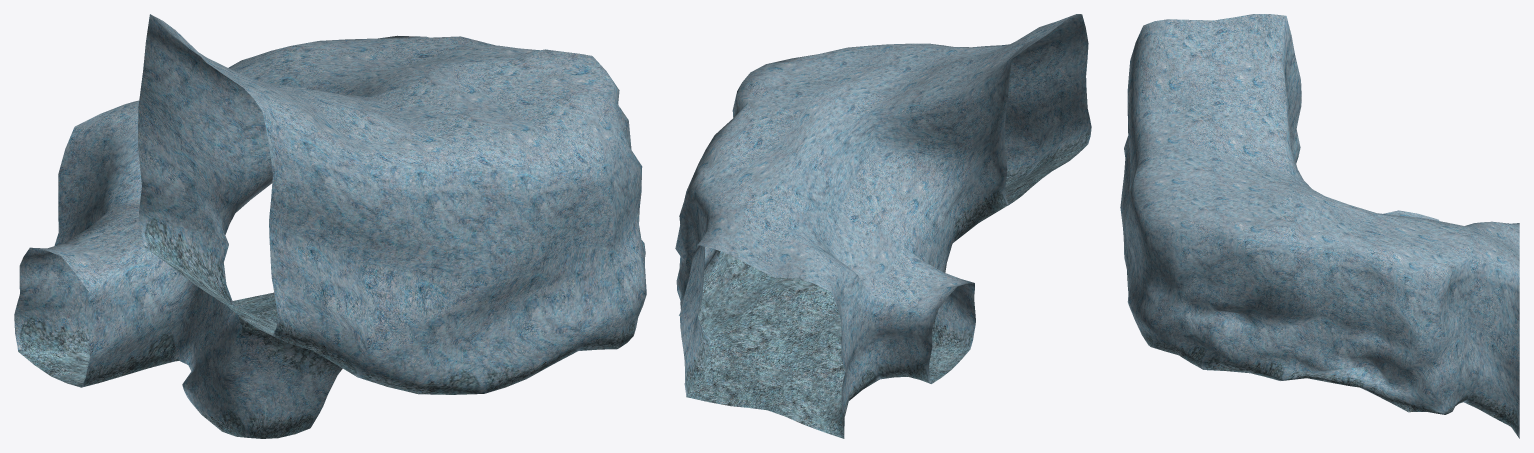
The model's file is thm_all_cave_s02_ice_r3_mesh_r3.fbx.
The picture shows the model from 3 angles, left to right: view 1: azimuth 30°, elevation 25°; view 2: azimuth 150°, elevation 25°; view 3: azimuth 270°, elevation 25°; orthographic projection. The views are drawn at different scales.
Parts seen in each view (by area): view 1: mesh_node; view 2: mesh_node; view 3: mesh_node.
Part boxes in pixels (x1,y1,x2,y2): mesh_node: [14, 14, 646, 438]; mesh_node: [675, 14, 1091, 438]; mesh_node: [1120, 14, 1519, 438].
Size of the model in its own units: 41.68 by 44.73 by 50.2.
